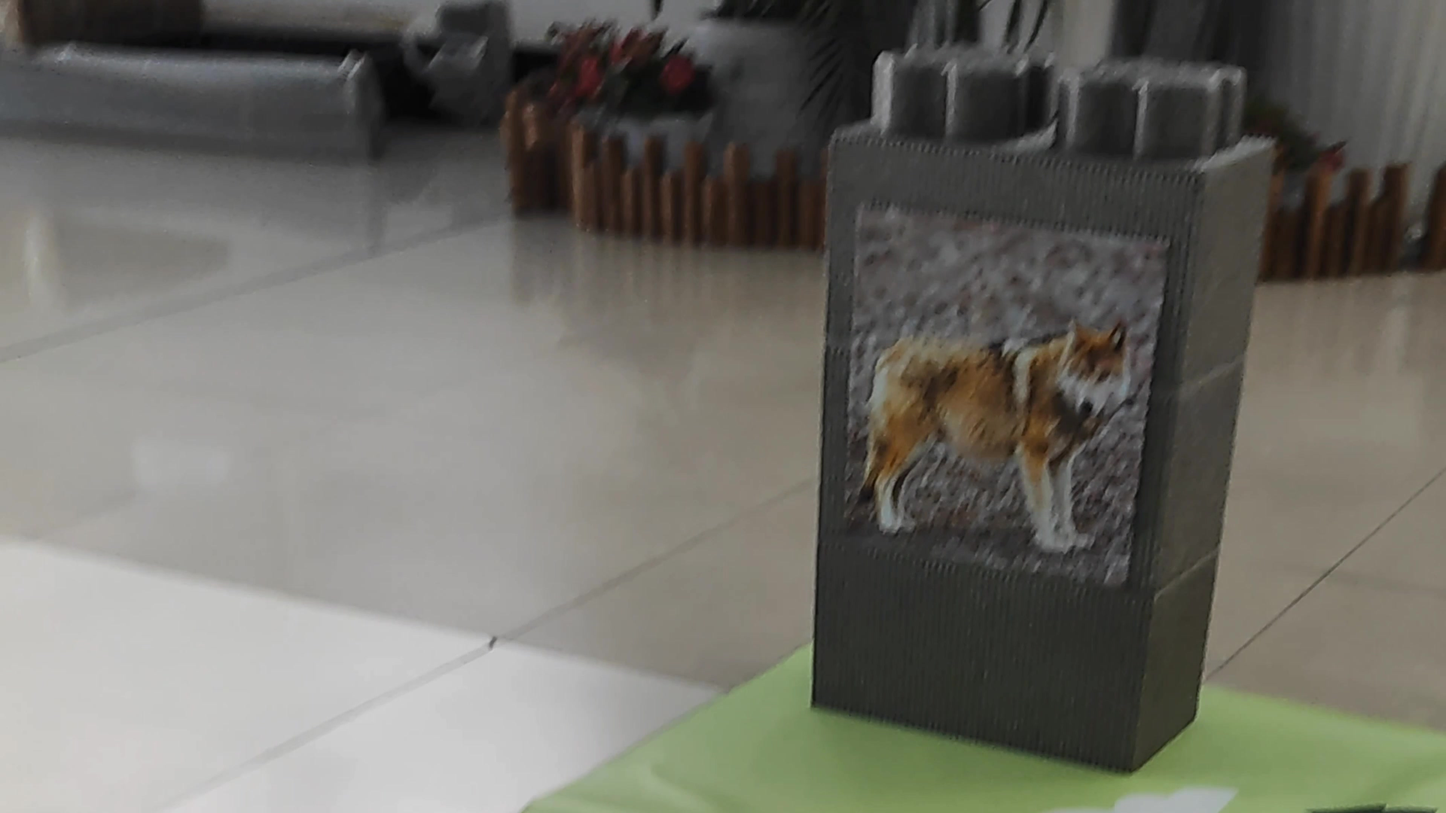wolf: (846, 271, 1137, 581)
